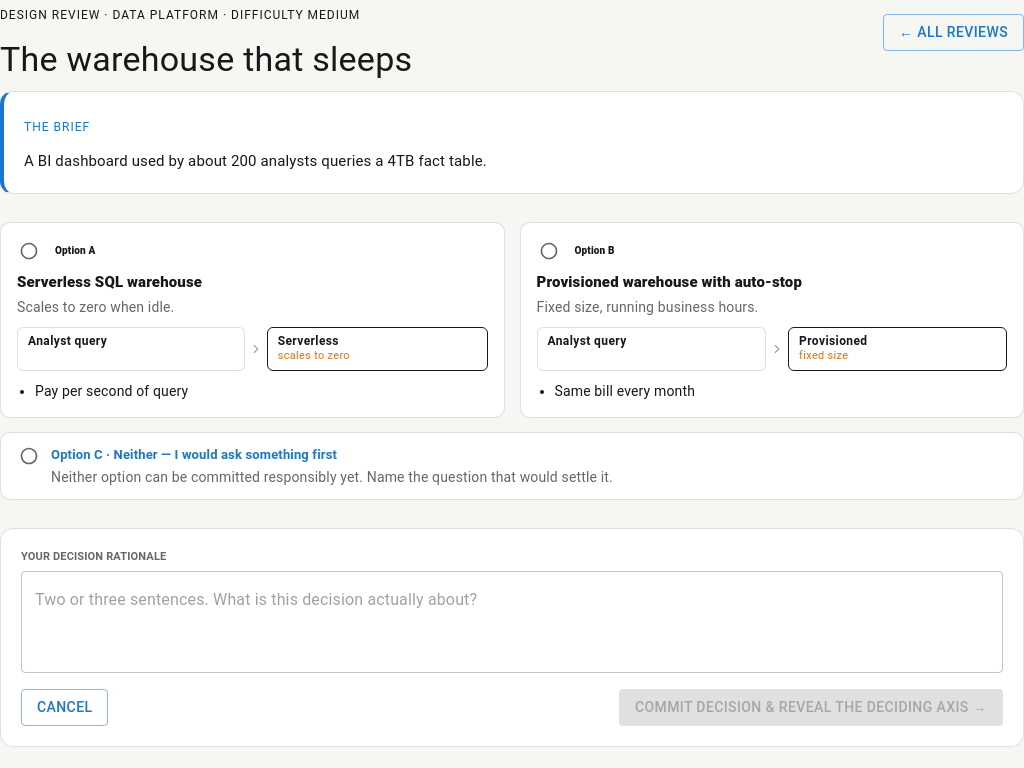
Test: DesignReviewPage › reveals the deciding axis and both failure modes after committing
expect the heading "Serverless SQL warehouse" is shown: met, box top-left (17, 273), bottom-right (202, 291)
Click the heading "Provisioned warehouse with auto-stop" at {"x": 669, "y": 282}, box top-left (536, 273), bottom-right (802, 291)
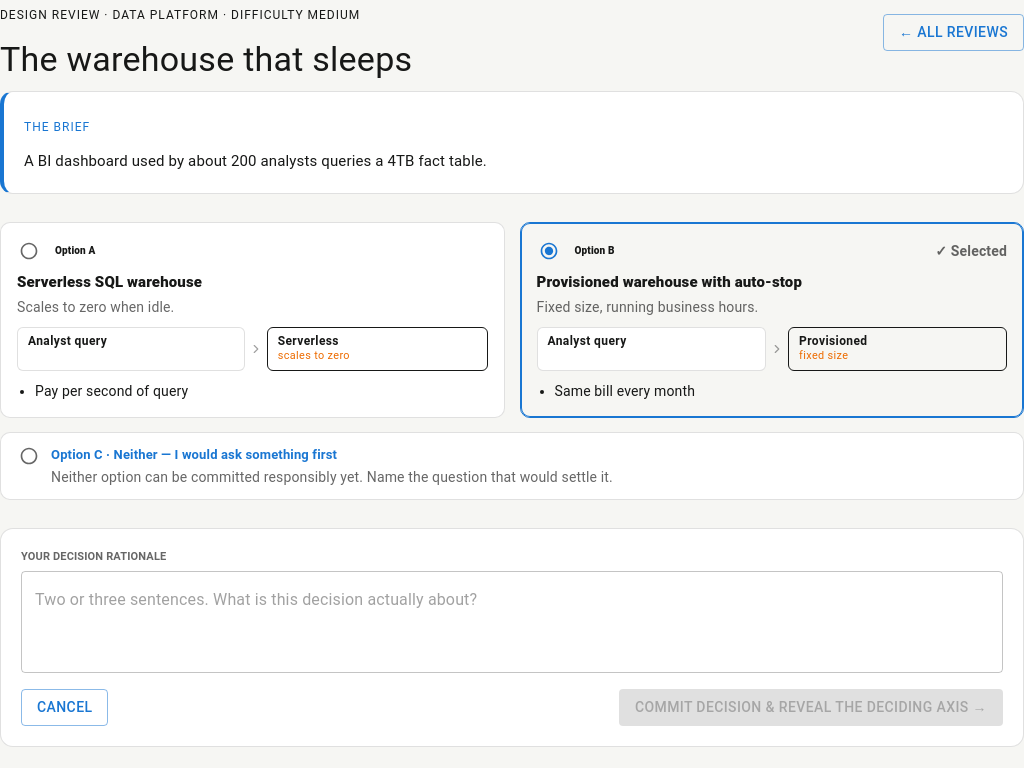
Type "Utilisation looks high." into the text box with placeholder "Two or three sentences" at {"x": 512, "y": 622}, box top-left (35, 588), bottom-right (989, 657)
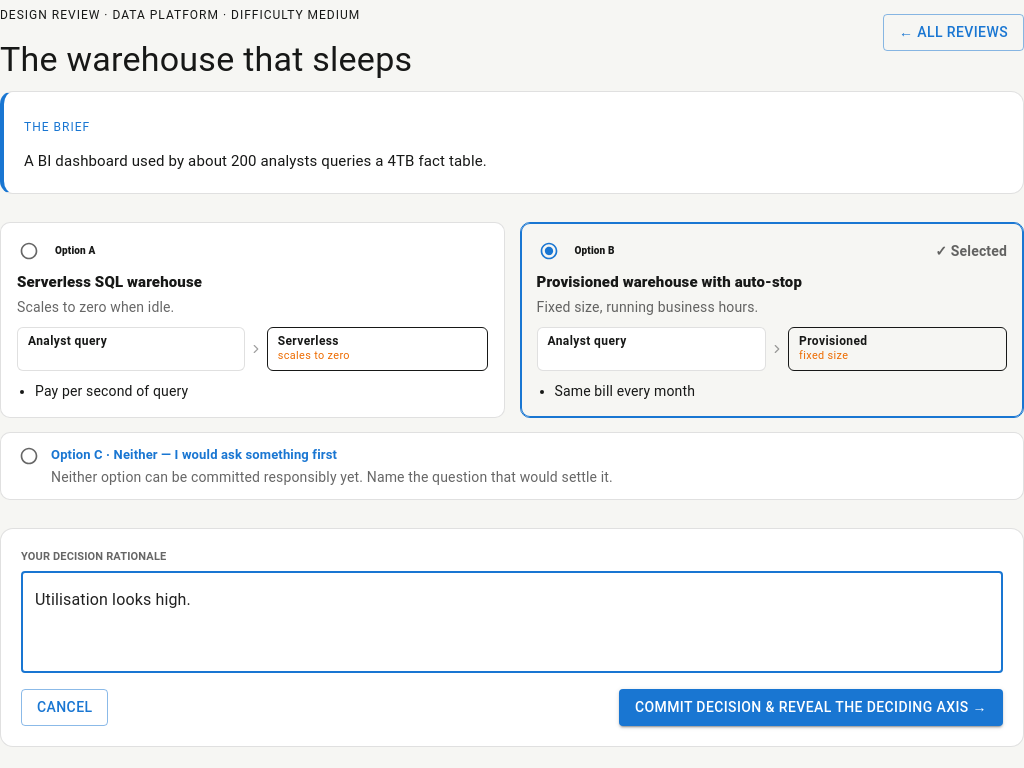
Click the button "Commit decision & reveal the deciding axis →" at {"x": 811, "y": 707}, box top-left (619, 689), bottom-right (1003, 726)
(page scrolled)
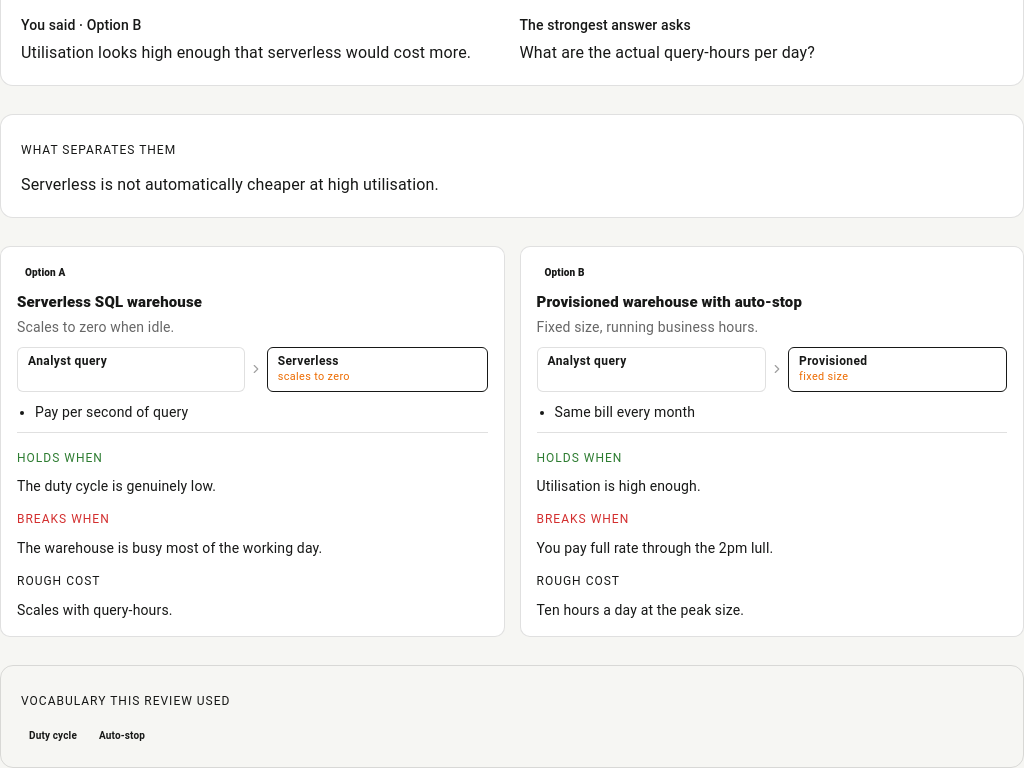
expect the text "What are the actual query-hours per day?" is shown: met, box top-left (520, 43), bottom-right (815, 62)
expect the text "You pay full rate through the 2pm lull." is shown: met, box top-left (536, 540), bottom-right (773, 556)
expect the text "The warehouse is busy most of the working day." is shown: met, box top-left (17, 540), bottom-right (322, 556)
